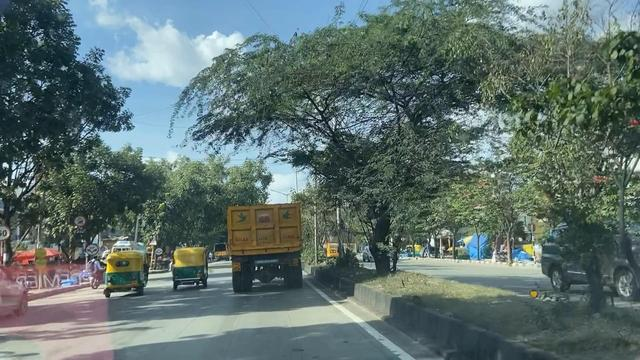HMV: (228, 203, 310, 290)
LMV: (106, 249, 147, 292), (170, 244, 206, 288)
